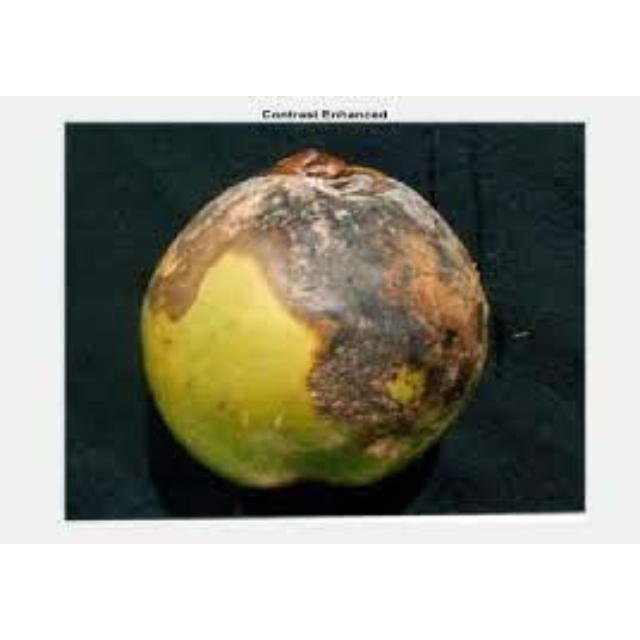damaged: (139, 146, 492, 504)
